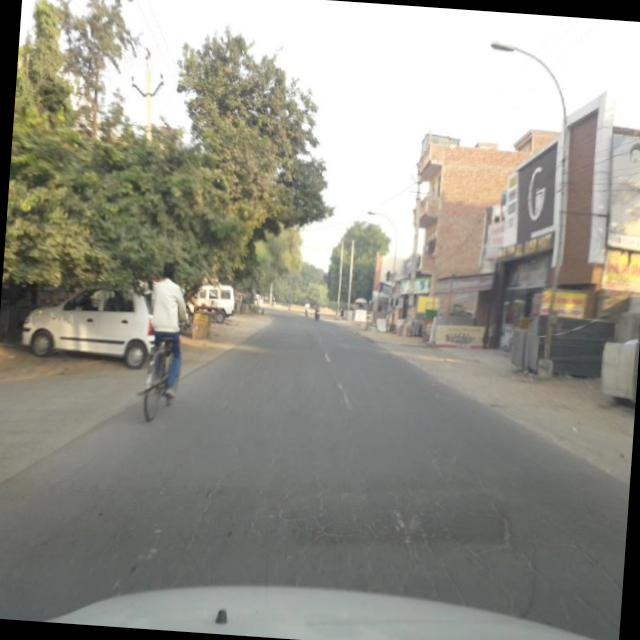crack: (182, 457, 580, 595)
